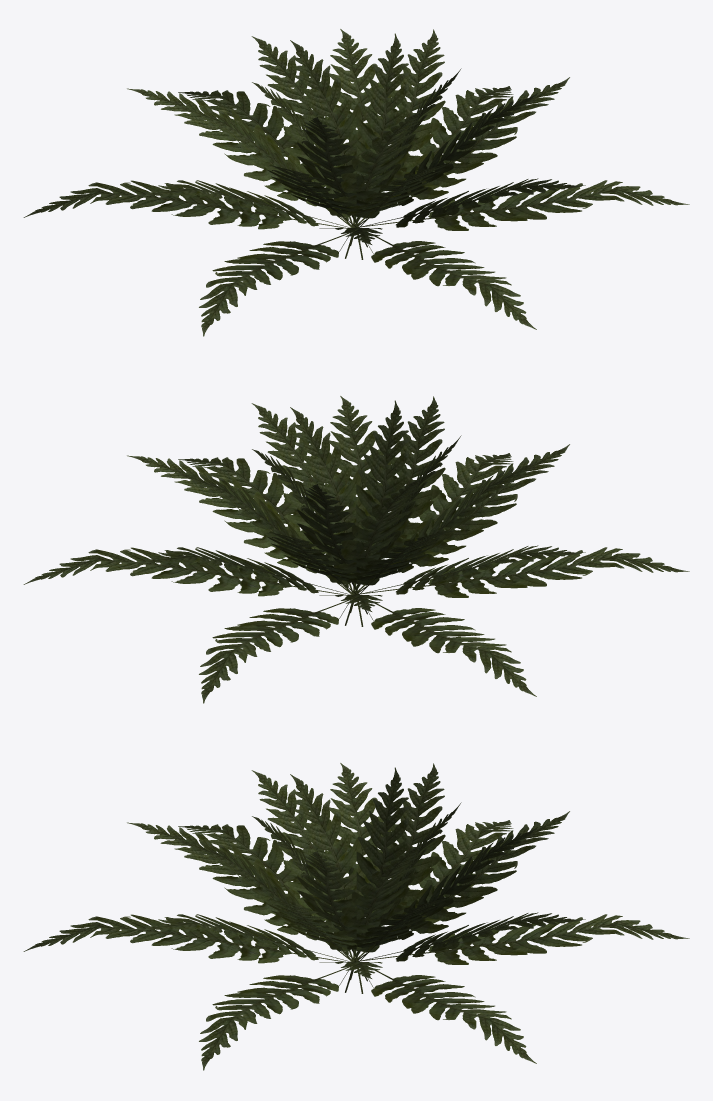
Rendered from paporotnik.obj.
3 renders of one model, top to bottom at view 1: azimuth 30°, elevation 25°; view 2: azimuth 150°, elevation 25°; view 3: azimuth 270°, elevation 25°, orthographic.
Visible parts, largest first — view 1: Paporotnik; view 2: Paporotnik; view 3: Paporotnik.
Boxes of the visible parts, <box> form: Paporotnik: <box>23,29,689,336</box>; Paporotnik: <box>23,396,689,703</box>; Paporotnik: <box>23,763,689,1070</box>.
Bounding box in the file's own units: 302 × 92.29 × 314.
